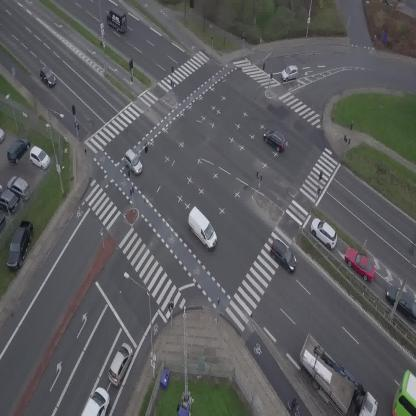bicycle: (287, 398, 301, 416)
car: (340, 242, 382, 285), (103, 340, 137, 388), (264, 237, 302, 275), (305, 213, 343, 251), (258, 124, 291, 154), (119, 148, 147, 177), (81, 387, 109, 416), (36, 65, 59, 89), (279, 64, 300, 82)
lorry: (284, 332, 385, 416), (179, 205, 224, 252), (102, 4, 134, 35)
